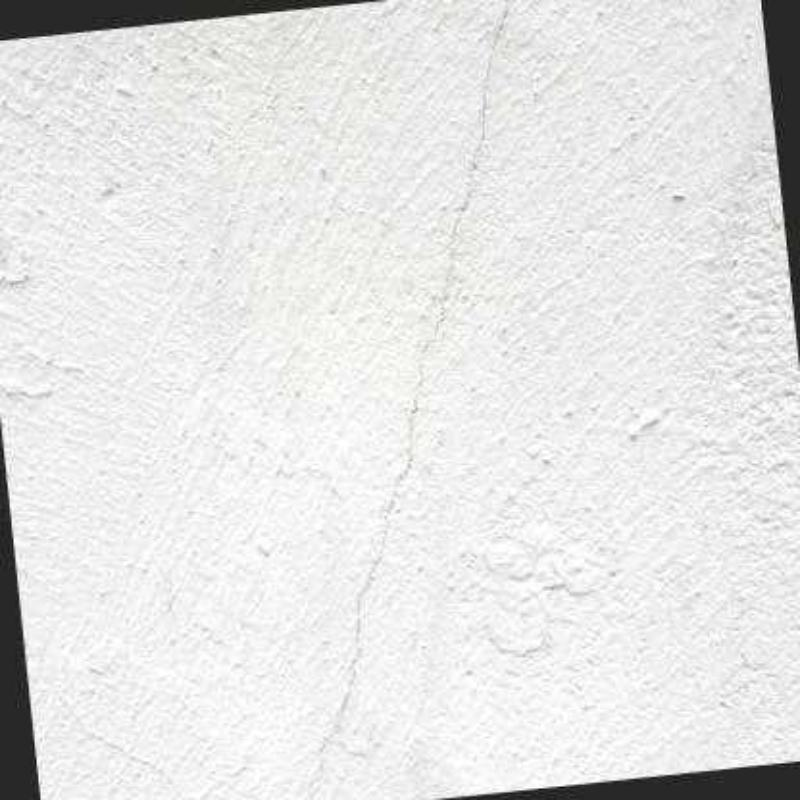crack: (303, 0, 511, 800)
